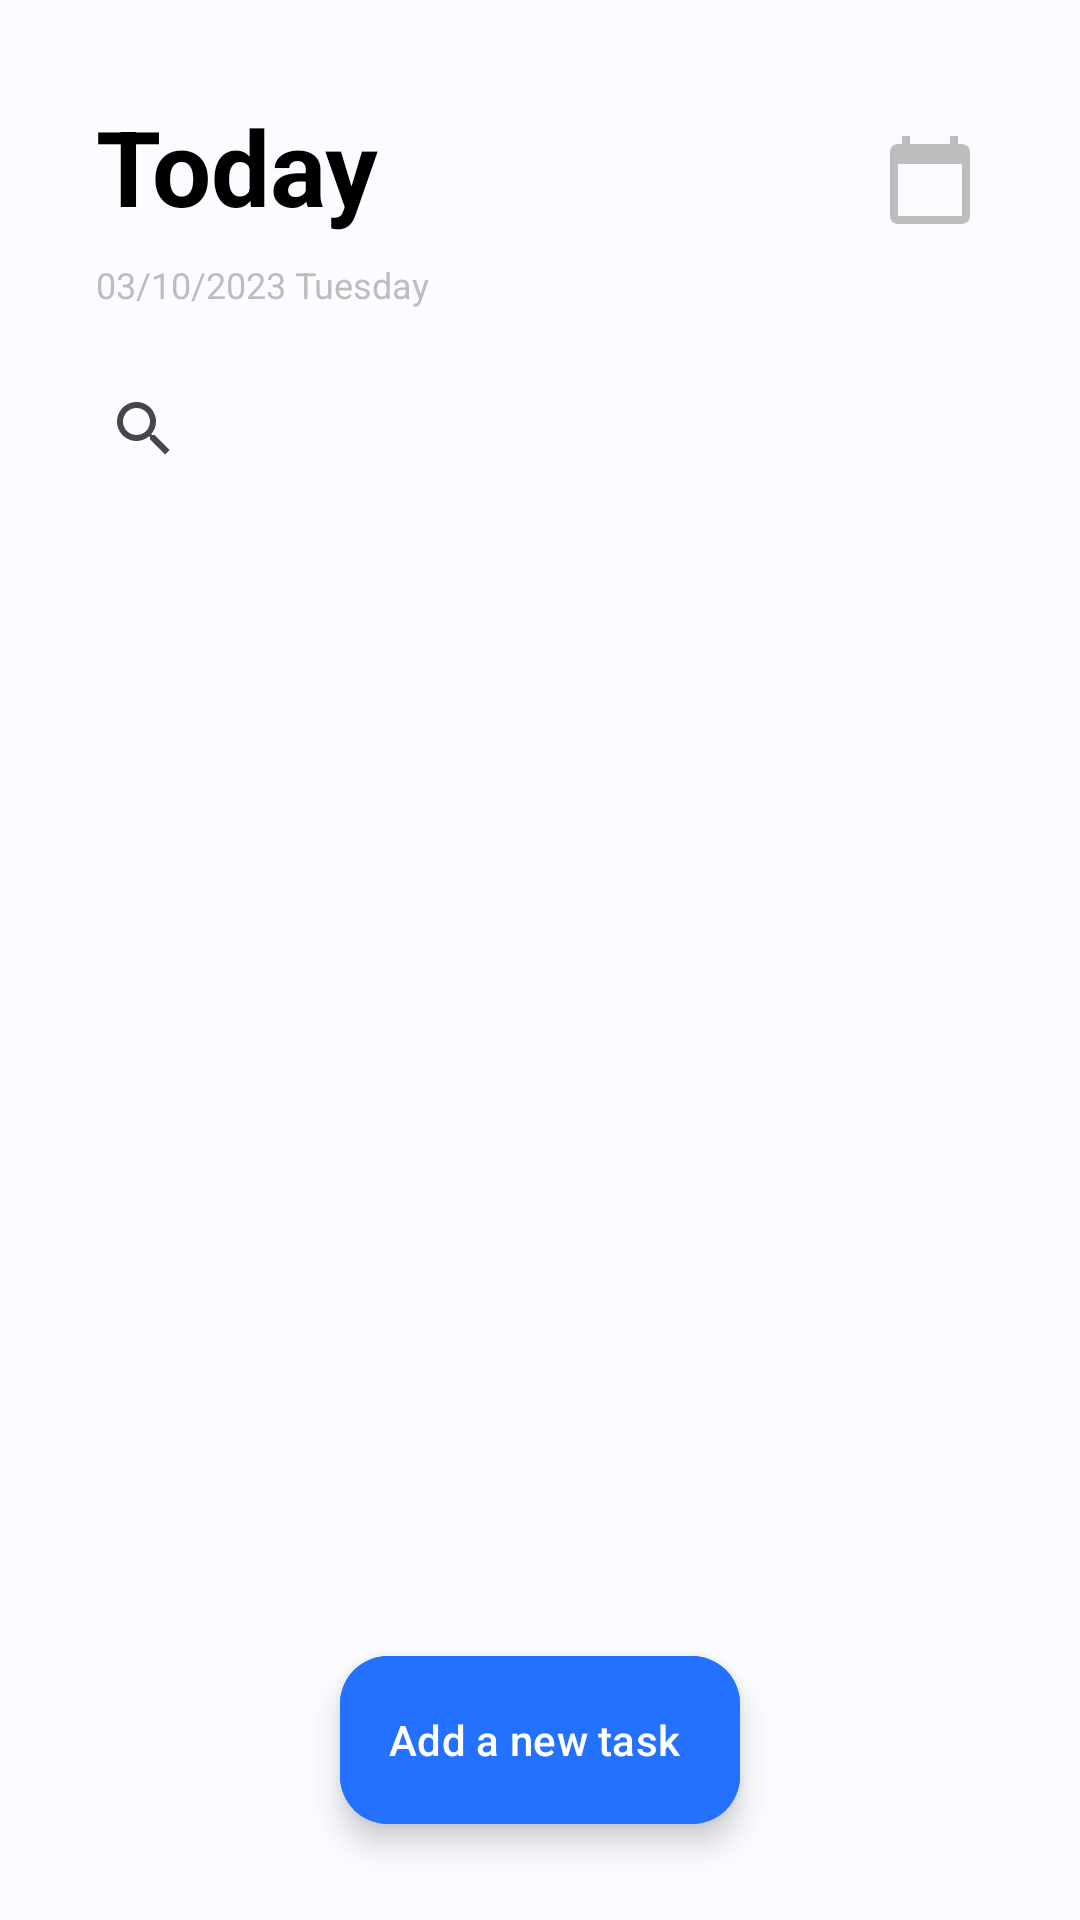

Locate icon controls on the screen. Image size 1080 x 1920, boxes as detection(x1, y1, x2, y2).
calendar today: detection(890, 136, 970, 224)
